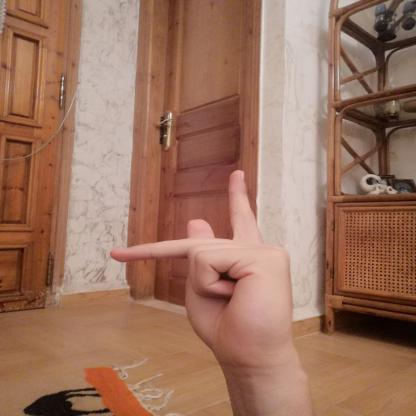DHAA: (97, 162, 308, 377)
